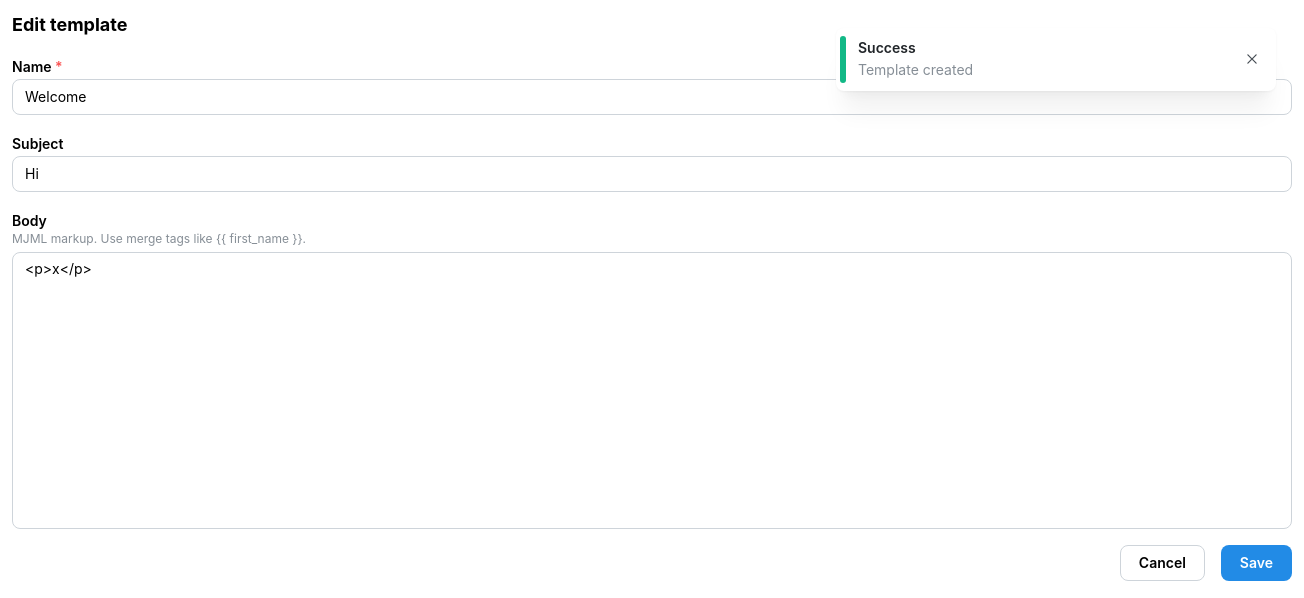
Test case: editing shows a loader, then existing values; cleared fields are sent as empty strings
This screenshot has width=1304, height=598.
Expected: the field labelled "Name *" holds "Welcome", [12,79,1292,115]
Clear the field labelled "Subject" at {"x": 652, "y": 174}, box [12,156,1292,192]
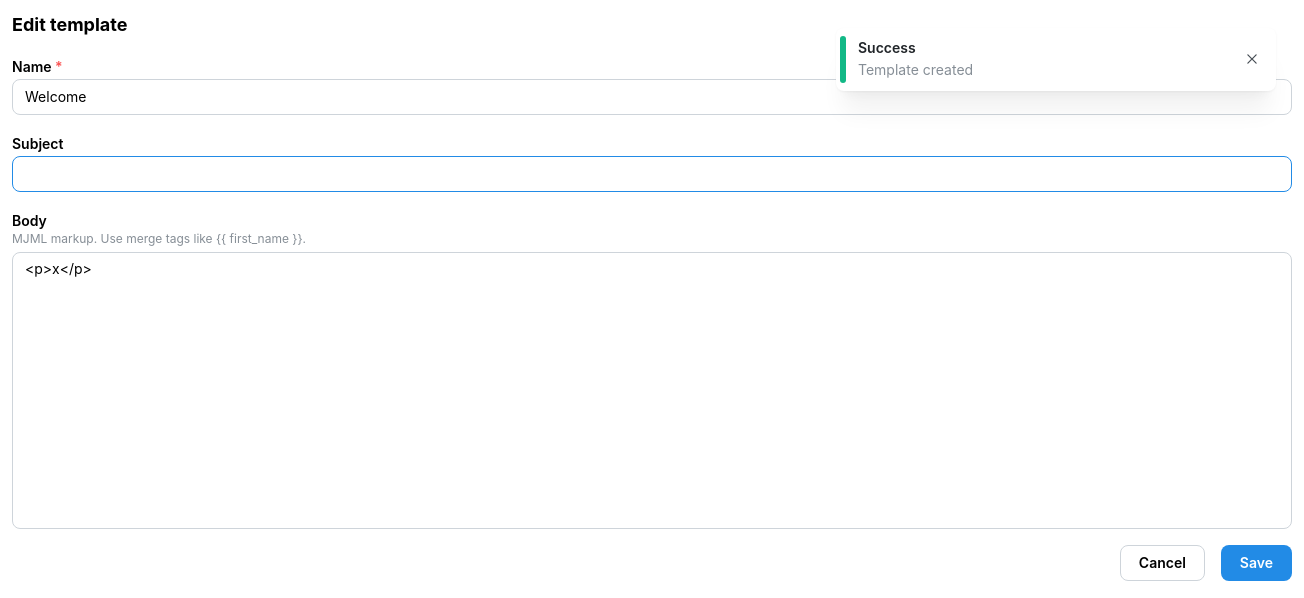
Click the button "Save" at {"x": 1256, "y": 563}, box [1221,545,1292,581]
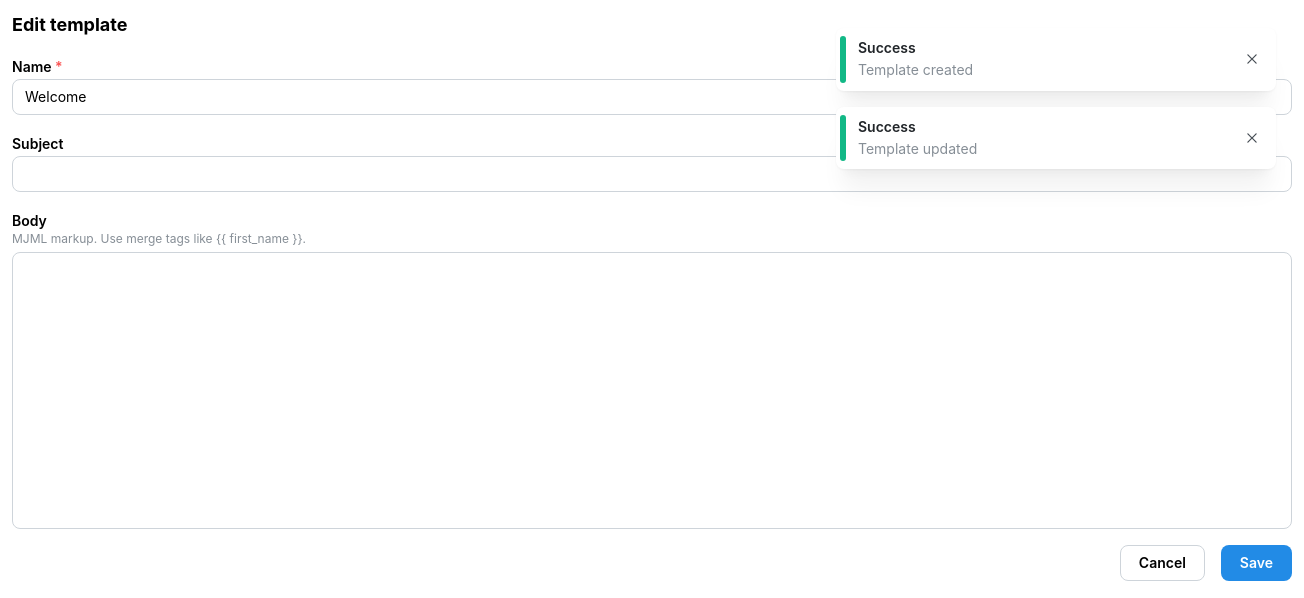
Result: the text "Template updated" is shown at [858,140,977,157]
